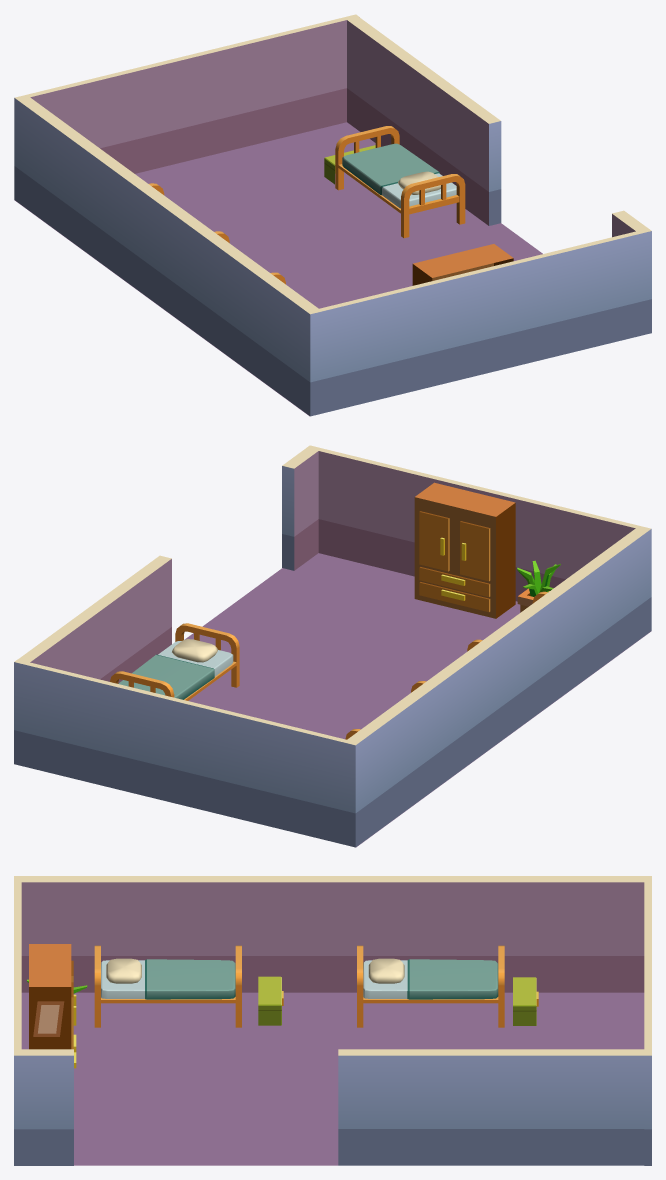
File: Barrack_Lv1_VIP_Left.fbx
3 renders of one model, top to bottom at view 1: azimuth 30°, elevation 25°; view 2: azimuth 150°, elevation 25°; view 3: azimuth 270°, elevation 25°, orthographic. The views are drawn at different scales.
Visible parts, largest first — view 1: Barrack_Lv1_VIP_Left13, Barrack_Lv1_VIP_Left6, Barrack_Lv1_VIP_Left11, Barrack_Lv1_VIP_Left14, Barrack_Lv1_VIP_Left7, Barrack_Lv1_VIP_Left17, Barrack_Lv1_VIP_Left9, Barrack_Lv1_VIP_Left10; view 2: Barrack_Lv1_VIP_Left6, Barrack_Lv1_VIP_Left14, Barrack_Lv1_VIP_Left11, Barrack_Lv1_VIP_Left13, Barrack_Lv1_VIP_Left9, Barrack_Lv1_VIP_Left7, Barrack_Lv1_VIP_Left17, Barrack_Lv1_VIP_Left10, Barrack_Lv1_VIP_Left1; view 3: Barrack_Lv1_VIP_Left6, Barrack_Lv1_VIP_Left11, Barrack_Lv1_VIP_Left7, Barrack_Lv1_VIP_Left16, Barrack_Lv1_VIP_Left15, Barrack_Lv1_VIP_Left10, Barrack_Lv1_VIP_Left9, Barrack_Lv1_VIP_Left13, Barrack_Lv1_VIP_Left14, Barrack_Lv1_VIP_Left8, Barrack_Lv1_VIP_Left12.
Boxes of the visible parts, x1,y1,x2,y2 form: Barrack_Lv1_VIP_Left13: [307, 228, 651, 416]; Barrack_Lv1_VIP_Left6: [14, 95, 321, 415]; Barrack_Lv1_VIP_Left11: [14, 122, 542, 416]; Barrack_Lv1_VIP_Left14: [19, 14, 358, 173]; Barrack_Lv1_VIP_Left7: [344, 14, 501, 225]; Barrack_Lv1_VIP_Left17: [335, 126, 465, 238]; Barrack_Lv1_VIP_Left9: [412, 244, 513, 285]; Barrack_Lv1_VIP_Left10: [612, 210, 651, 335]; Barrack_Lv1_VIP_Left6: [343, 526, 651, 847]; Barrack_Lv1_VIP_Left14: [14, 659, 357, 846]; Barrack_Lv1_VIP_Left11: [184, 553, 651, 847]; Barrack_Lv1_VIP_Left13: [306, 445, 647, 601]; Barrack_Lv1_VIP_Left9: [414, 482, 515, 618]; Barrack_Lv1_VIP_Left7: [14, 555, 171, 766]; Barrack_Lv1_VIP_Left17: [110, 623, 239, 700]; Barrack_Lv1_VIP_Left10: [282, 446, 320, 570]; Barrack_Lv1_VIP_Left1: [517, 560, 560, 612]; Barrack_Lv1_VIP_Left6: [14, 876, 651, 992]; Barrack_Lv1_VIP_Left11: [21, 992, 644, 1165]; Barrack_Lv1_VIP_Left7: [338, 1049, 651, 1165]; Barrack_Lv1_VIP_Left16: [357, 945, 504, 1027]; Barrack_Lv1_VIP_Left15: [94, 945, 241, 1027]; Barrack_Lv1_VIP_Left10: [14, 1049, 73, 1165]; Barrack_Lv1_VIP_Left9: [29, 944, 76, 1068]; Barrack_Lv1_VIP_Left13: [14, 876, 21, 1165]; Barrack_Lv1_VIP_Left14: [644, 876, 651, 1165]; Barrack_Lv1_VIP_Left8: [258, 976, 283, 1025]; Barrack_Lv1_VIP_Left12: [513, 977, 538, 1025].
Size of the model in its own units: 701 by 202 by 1050.
